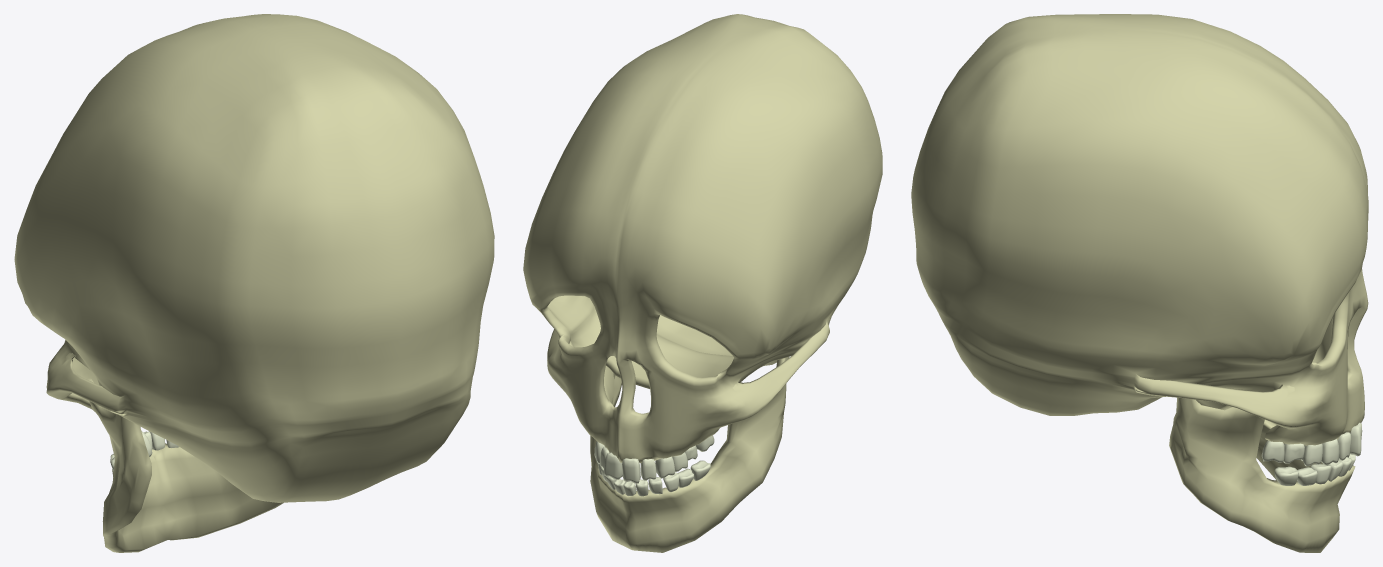
Rendered from skull.fbx.
The picture shows the model from 3 angles, left to right: view 1: azimuth 30°, elevation 25°; view 2: azimuth 150°, elevation 25°; view 3: azimuth 270°, elevation 25°; orthographic projection. The views are drawn at different scales.
Parts seen in each view (by area): view 1: Skull, Jaw; view 2: Skull, Jaw, Skull_Teeth, Jaw_Teeth; view 3: Skull, Jaw, Skull_Teeth, Jaw_Teeth.
Boxes of the visible parts, <box> form: Skull: <box>14,14,494,502</box>; Jaw: <box>86,378,283,552</box>; Skull: <box>523,14,882,463</box>; Jaw: <box>590,357,789,552</box>; Skull_Teeth: <box>594,435,714,483</box>; Jaw_Teeth: <box>595,458,710,496</box>; Skull: <box>911,14,1368,445</box>; Jaw: <box>1169,397,1355,552</box>; Skull_Teeth: <box>1261,422,1362,466</box>; Jaw_Teeth: <box>1274,454,1355,485</box>.
Bounding box in the file's own units: 0.7856 × 1.31 × 1.07.
